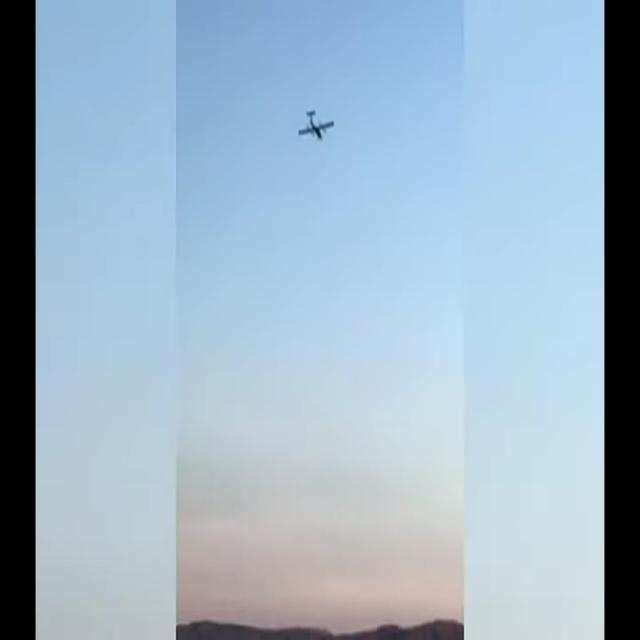iha: (298, 45, 335, 79)
